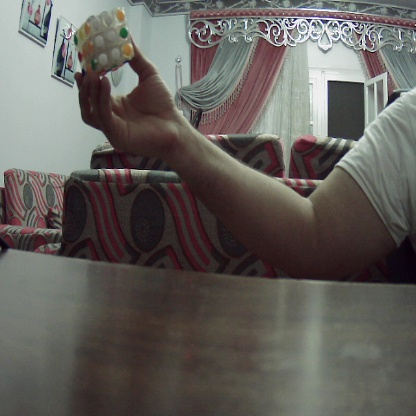Rubix Cube: (72, 8, 137, 74)
